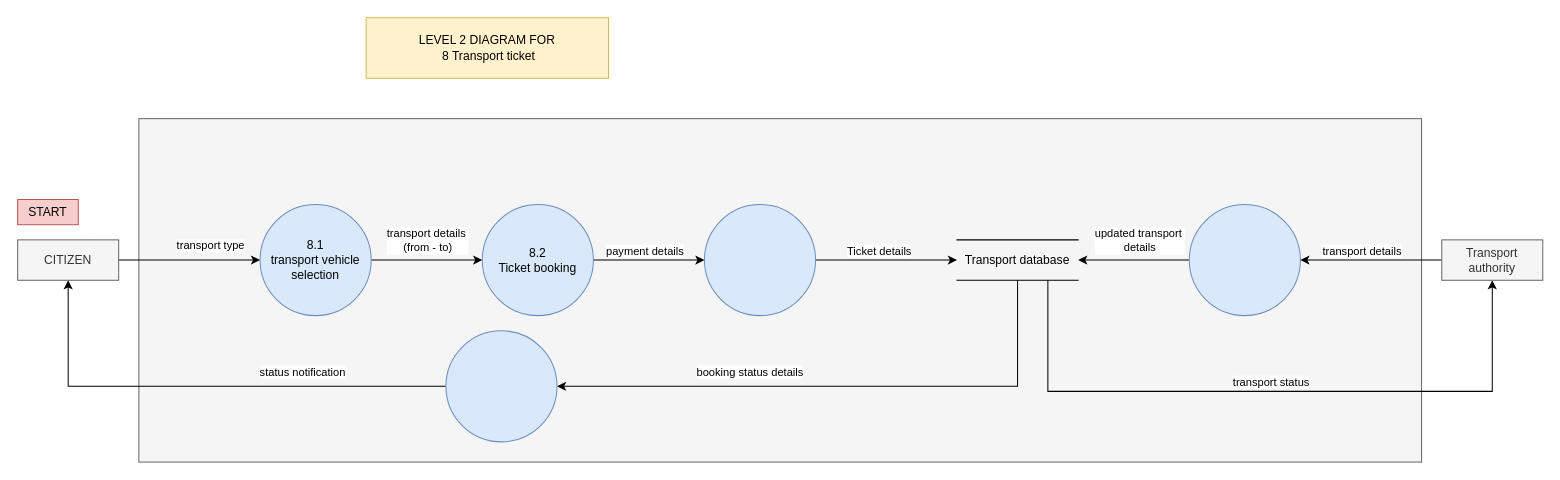
Image size: 1560x480. Some labels were removed from this diagram. Each missing label, with the centre of its shape:
"8.3 Payment process" goes at point 759,260.
"8.4 Booking notifications" goes at point 501,386.
"8.4 Update the tickets, routes and vehicles" goes at point 1244,260.
